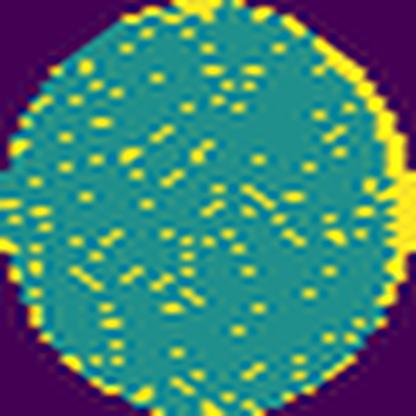Edge-Loc: (315, 35, 415, 305), (124, 0, 228, 24)
